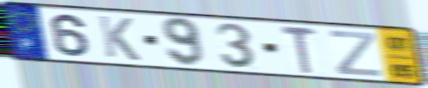3: (214, 22, 260, 71)
6: (48, 12, 93, 59)
9: (160, 16, 208, 69)
K: (95, 14, 143, 63)
T: (277, 24, 320, 75)
Z: (327, 29, 383, 79)
